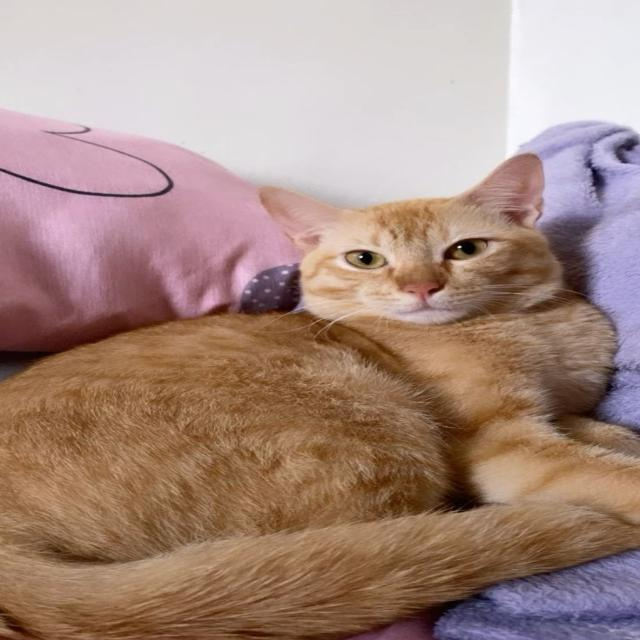sarman: (24, 68, 632, 640)
